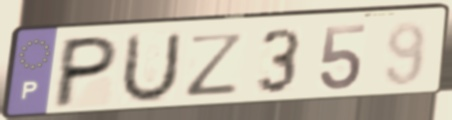3: (254, 26, 303, 95)
5: (317, 21, 370, 92)
9: (383, 19, 432, 88)
P: (48, 34, 123, 112)
U: (115, 29, 185, 107)
Z: (185, 30, 249, 99)
